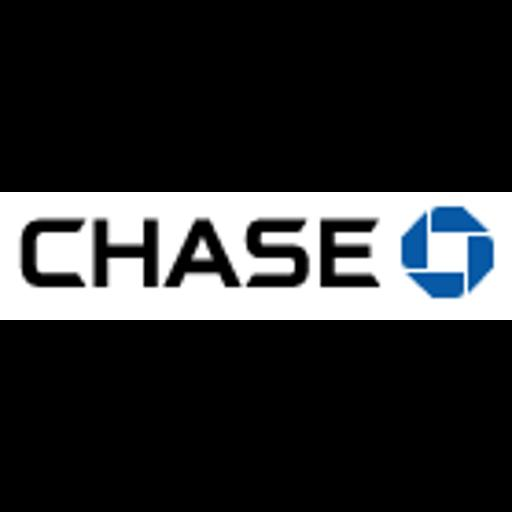Chase Personal Banking: (0, 192, 512, 320)
